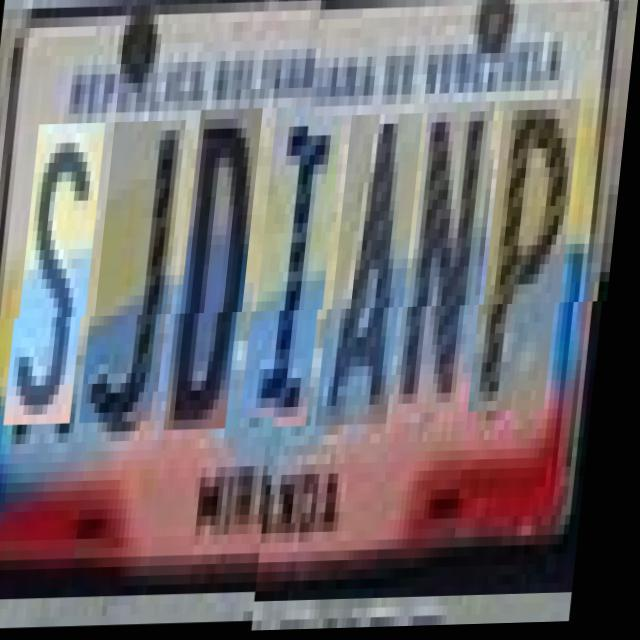A: (330, 115, 426, 428)
D: (176, 120, 264, 441)
I: (254, 118, 346, 430)
J: (92, 131, 188, 433)
N: (406, 105, 498, 416)
P: (482, 103, 583, 414)
S: (17, 133, 108, 435)
